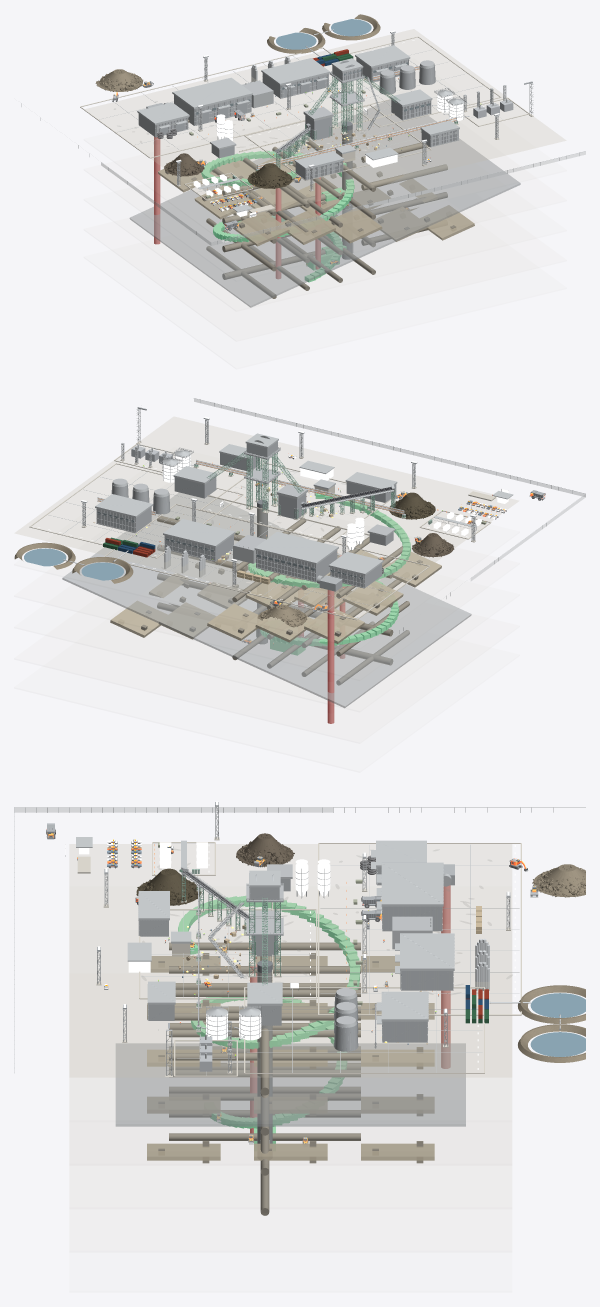
The model's file is undergroundmine.glb.
The picture shows the model from 3 angles, top to bottom: view 1: azimuth 30°, elevation 25°; view 2: azimuth 150°, elevation 25°; view 3: azimuth 270°, elevation 25°; orthographic projection. The views are drawn at different scales.
Visible parts, largest first — view 1: structure/mat_a89d7e_alpha_5, structure/mat_5e656b_alpha_7, structure/mat_8b7a5a_alpha_18, structure/mat_534c3f_74, structure/roof, galv/galv, structure/clad, structure/mat_625a4b_73, structure/concrete, structure/seam, structure/green, structure/steelD (+10 smaller); view 2: structure/mat_a89d7e_alpha_5, structure/mat_5e656b_alpha_7, structure/mat_8b7a5a_alpha_18, structure/roof, structure/clad, structure/mat_534c3f_74, galv/galv, structure/mat_625a4b_73, structure/concrete, structure/seam, structure/green, fence/mesh (+8 smaller); view 3: structure/mat_a89d7e_alpha_5, structure/mat_5e656b_alpha_7, structure/mat_534c3f_74, structure/mat_8b7a5a_alpha_18, structure/roof, galv/galv, structure/clad, structure/mat_625a4b_73, structure/concrete, structure/waste, structure/seam, structure/water (+13 smaller).
Part boxes in pixels (x1=…): structure/mat_a89d7e_alpha_5: x1=85, y1=29, x2=565, y2=220; structure/mat_5e656b_alpha_7: x1=129, y1=100, x2=520, y2=307; structure/mat_8b7a5a_alpha_18: x1=158, y1=158, x2=474, y2=246; structure/mat_534c3f_74: x1=165, y1=138, x2=455, y2=298; structure/roof: x1=137, y1=45, x2=459, y2=212; galv/galv: x1=155, y1=29, x2=533, y2=252; structure/clad: x1=138, y1=57, x2=458, y2=179; structure/mat_625a4b_73: x1=201, y1=150, x2=354, y2=282; structure/concrete: x1=80, y1=36, x2=533, y2=213; structure/seam: x1=99, y1=45, x2=516, y2=194; structure/green: x1=256, y1=75, x2=457, y2=171; structure/steelD: x1=159, y1=31, x2=532, y2=257; structure/mat_a89d7e_alpha_5: x1=15, y1=417, x2=518, y2=616; structure/mat_5e656b_alpha_7: x1=62, y1=492, x2=471, y2=707; structure/mat_8b7a5a_alpha_18: x1=110, y1=550, x2=441, y2=643; structure/roof: x1=95, y1=433, x2=513, y2=575; structure/clad: x1=96, y1=441, x2=396, y2=591; structure/mat_534c3f_74: x1=141, y1=515, x2=422, y2=685; galv/galv: x1=63, y1=408, x2=476, y2=636; structure/mat_625a4b_73: x1=248, y1=493, x2=410, y2=655; structure/concrete: x1=29, y1=441, x2=495, y2=620; structure/seam: x1=49, y1=451, x2=478, y2=611; structure/green: x1=194, y1=451, x2=405, y2=518; fence/mesh: x1=194, y1=398, x2=585, y2=580; structure/mat_a89d7e_alpha_5: x1=69, y1=844, x2=511, y2=1077; structure/mat_5e656b_alpha_7: x1=115, y1=1043, x2=465, y2=1126; structure/mat_534c3f_74: x1=158, y1=942, x2=423, y2=1215; structure/mat_8b7a5a_alpha_18: x1=147, y1=956, x2=434, y2=1160; structure/roof: x1=76, y1=837, x2=454, y2=1024; galv/galv: x1=97, y1=806, x2=560, y2=1143; structure/clad: x1=139, y1=864, x2=454, y2=1051; structure/mat_625a4b_73: x1=178, y1=895, x2=360, y2=1143; structure/concrete: x1=77, y1=837, x2=521, y2=1076; structure/waste: x1=518, y1=864, x2=585, y2=1062; structure/seam: x1=139, y1=844, x2=519, y2=1075; structure/water: x1=530, y1=993, x2=585, y2=1056.
Size of the model in its own units: 340 by 185 by 310.
Materials: 72 (10 with a texture image).
